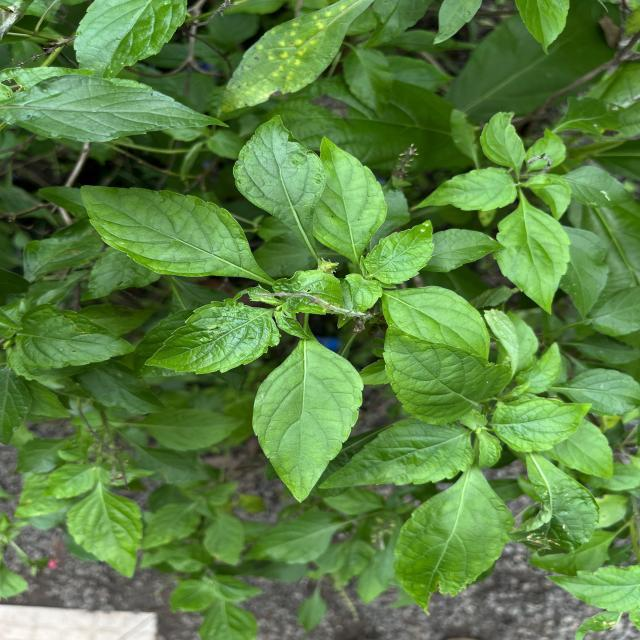Ocimum gratissimum: (75, 177, 269, 290), (250, 327, 367, 503), (390, 466, 517, 616), (0, 70, 230, 146), (230, 113, 331, 274), (378, 321, 516, 428), (315, 416, 478, 490), (142, 296, 284, 378), (309, 134, 389, 266), (8, 300, 141, 372), (488, 394, 594, 454), (361, 218, 438, 286)
